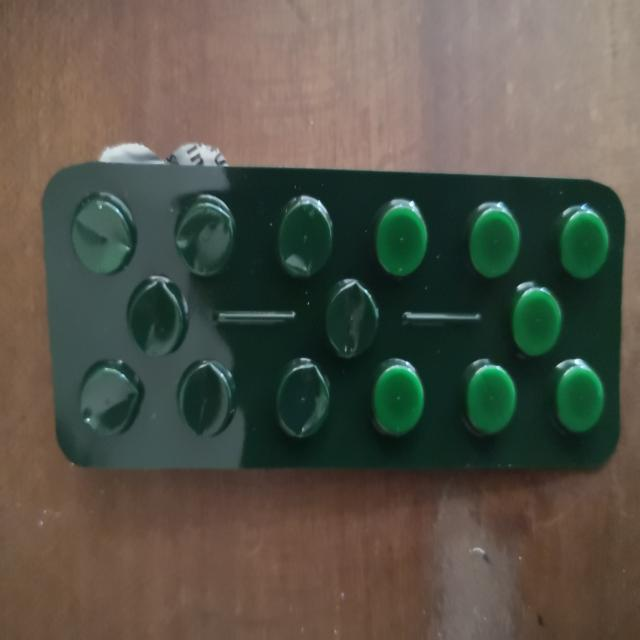Empty: (268, 190, 341, 282), (168, 190, 238, 280), (64, 194, 138, 275), (71, 357, 142, 440), (270, 354, 332, 444), (124, 275, 191, 356), (174, 359, 237, 440), (320, 284, 384, 355)
Pill: (458, 352, 519, 440), (460, 198, 525, 279), (547, 358, 613, 436), (366, 197, 430, 276), (365, 358, 428, 437), (555, 201, 613, 285), (510, 284, 567, 359)
